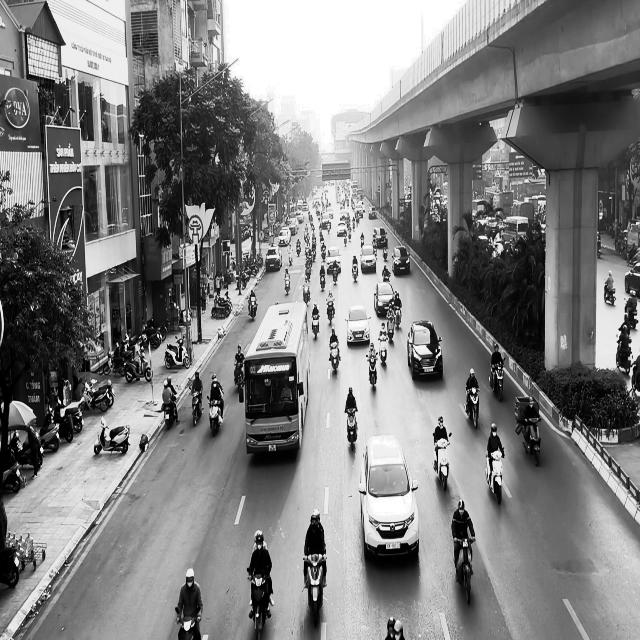bus: (243, 299, 310, 456)
car: (358, 434, 419, 560), (407, 319, 443, 380), (345, 303, 371, 345), (374, 281, 394, 316), (391, 246, 410, 275), (360, 245, 376, 273)
motorbike: (303, 553, 326, 626), (247, 570, 271, 639), (453, 534, 475, 604), (94, 416, 130, 454), (432, 431, 451, 490), (484, 448, 504, 504), (175, 606, 201, 640), (206, 393, 224, 437), (489, 356, 505, 401), (464, 385, 480, 429), (344, 407, 358, 451), (616, 338, 632, 374), (189, 387, 203, 426), (164, 394, 179, 429), (365, 354, 378, 390), (234, 363, 244, 402), (329, 341, 340, 374), (604, 280, 616, 305), (378, 334, 387, 364), (311, 314, 320, 339), (248, 296, 257, 320), (284, 272, 290, 294)
